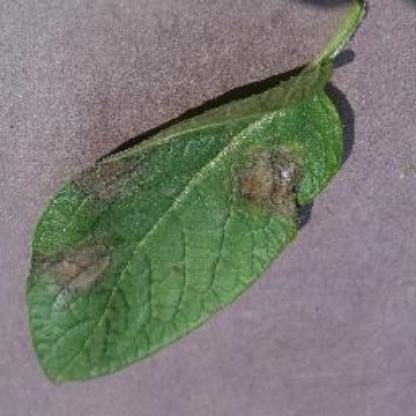Late-Blight: (25, 13, 354, 387)
